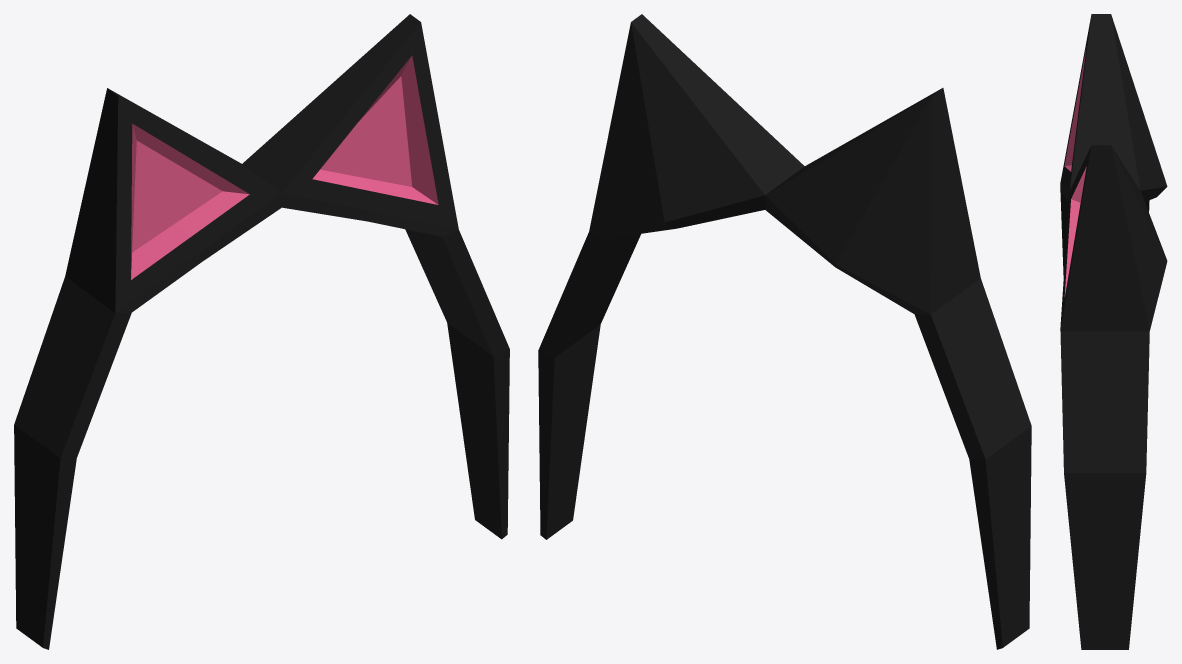
The model's file is cat-ears.glb.
3 renders of one model, left to right at view 1: azimuth 30°, elevation 25°; view 2: azimuth 150°, elevation 25°; view 3: azimuth 270°, elevation 25°, orthographic. The views are drawn at different scales.
Parts seen in each view (by area): view 1: catears_Circle.004; view 2: catears_Circle.004; view 3: catears_Circle.004.
Part boxes in pixels (box(x1,y1,x2,y2)): catears_Circle.004: box(14, 14, 509, 649); catears_Circle.004: box(538, 14, 1031, 649); catears_Circle.004: box(1060, 14, 1167, 649).
Bounding box in the file's own units: 9.57 × 10.46 × 2.15.
